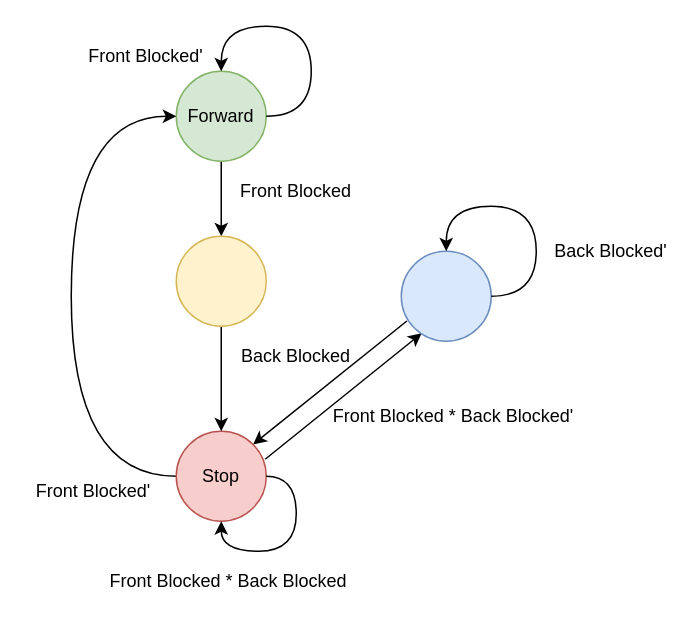
Some shapes in this 696 by 623 pixel diagram are drawn without their labels. Each missing label, with the centre of its shape:
Backward: (x=445, y=295)
Braking: (x=220, y=280)
